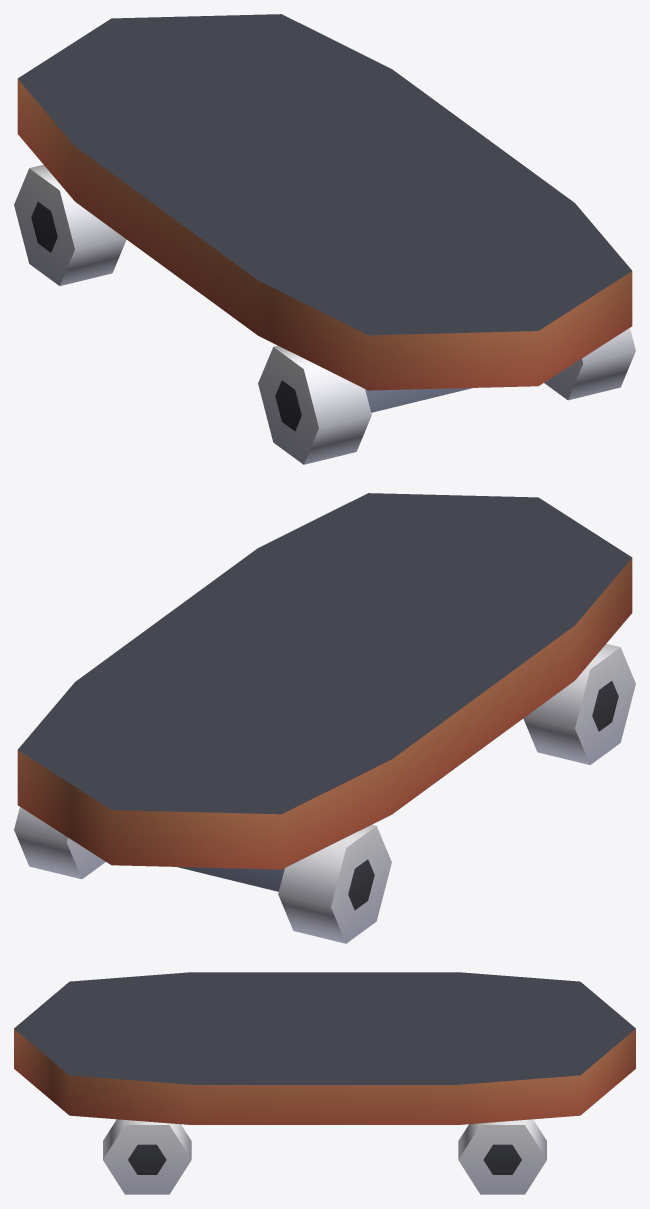
Rendered from skateboard.glb.
3 renders of one model, top to bottom at view 1: azimuth 30°, elevation 25°; view 2: azimuth 150°, elevation 25°; view 3: azimuth 270°, elevation 25°, orthographic. The views are drawn at different scales.
Parts seen in each view (by area): view 1: skateboard; view 2: skateboard; view 3: skateboard.
Part boxes in pixels (<box>): skateboard: <box>14,14,635,464</box>; skateboard: <box>14,493,635,943</box>; skateboard: <box>14,972,635,1194</box>.
Size of the model in its own units: 0.3 by 0.1366 by 0.7.
Materials: 1 (1 with a texture image).
